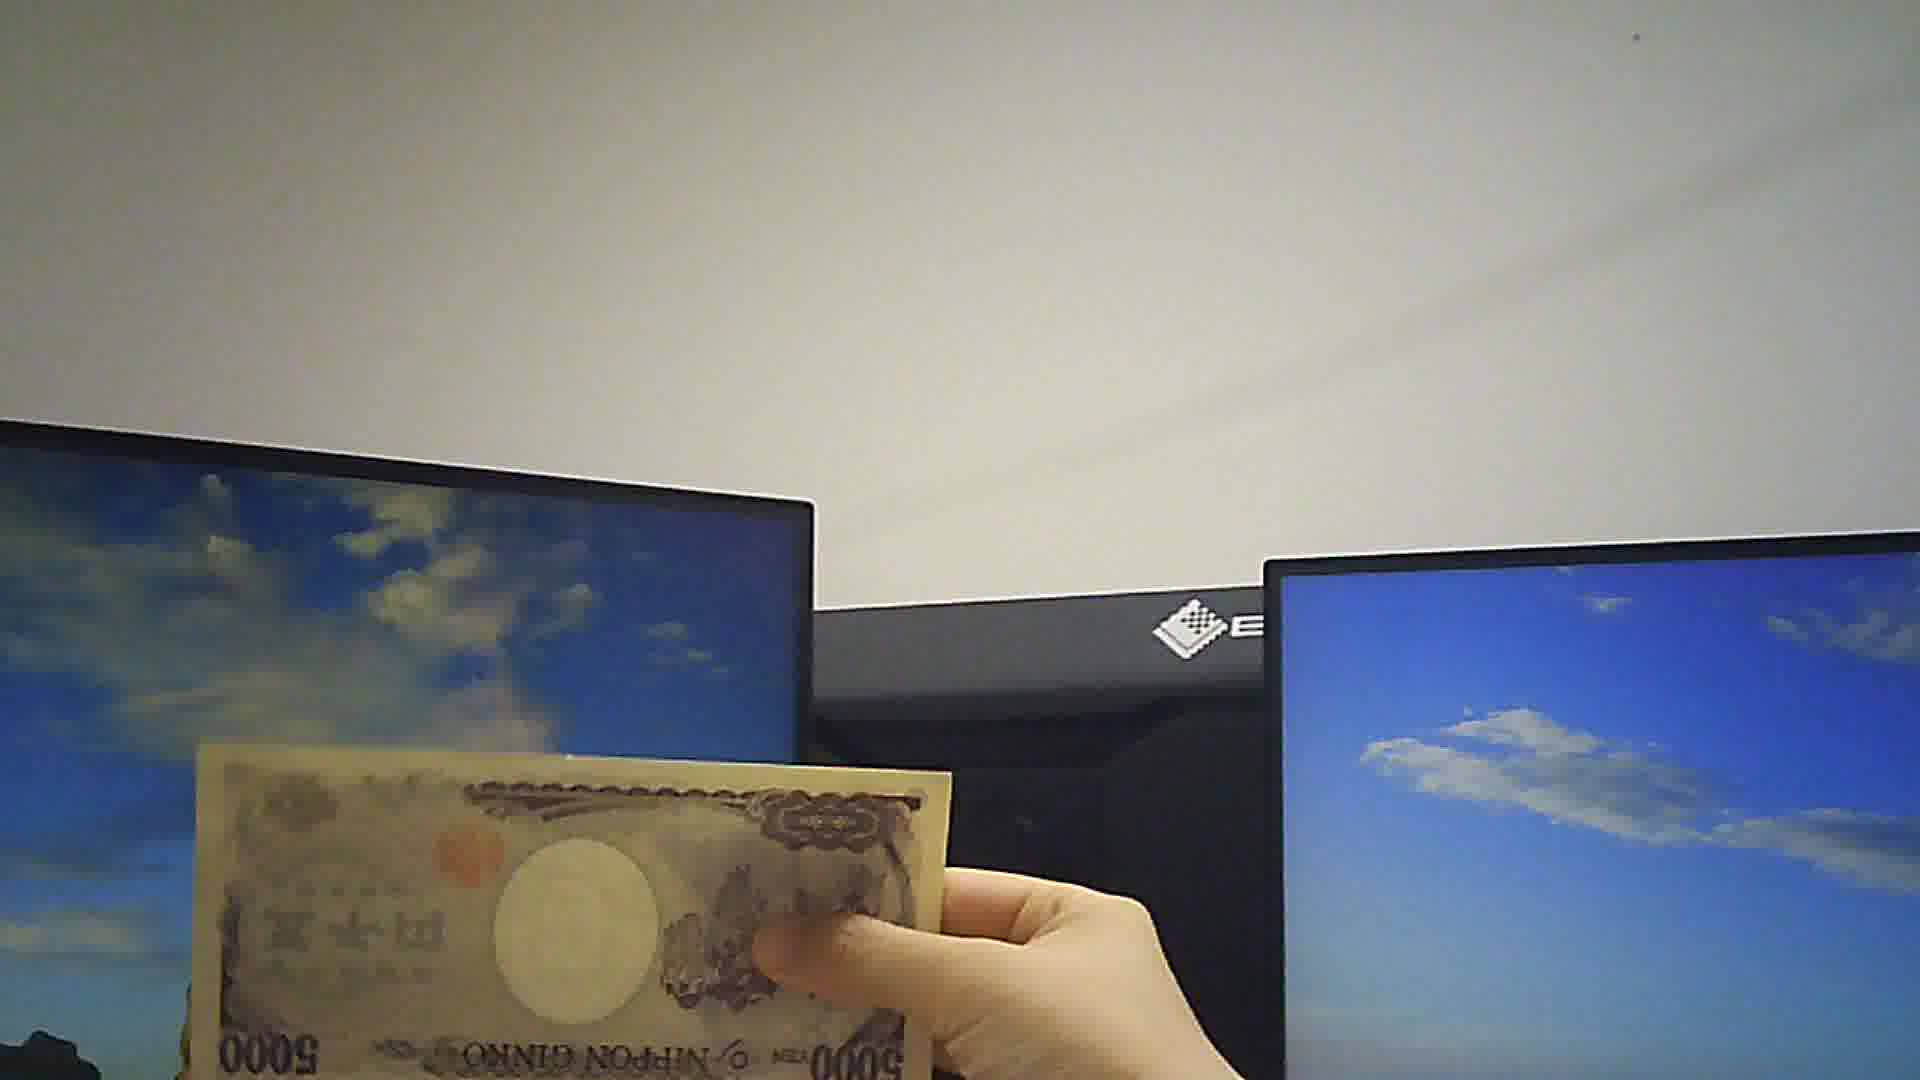5,000 Yen: (174, 720, 951, 1076)
